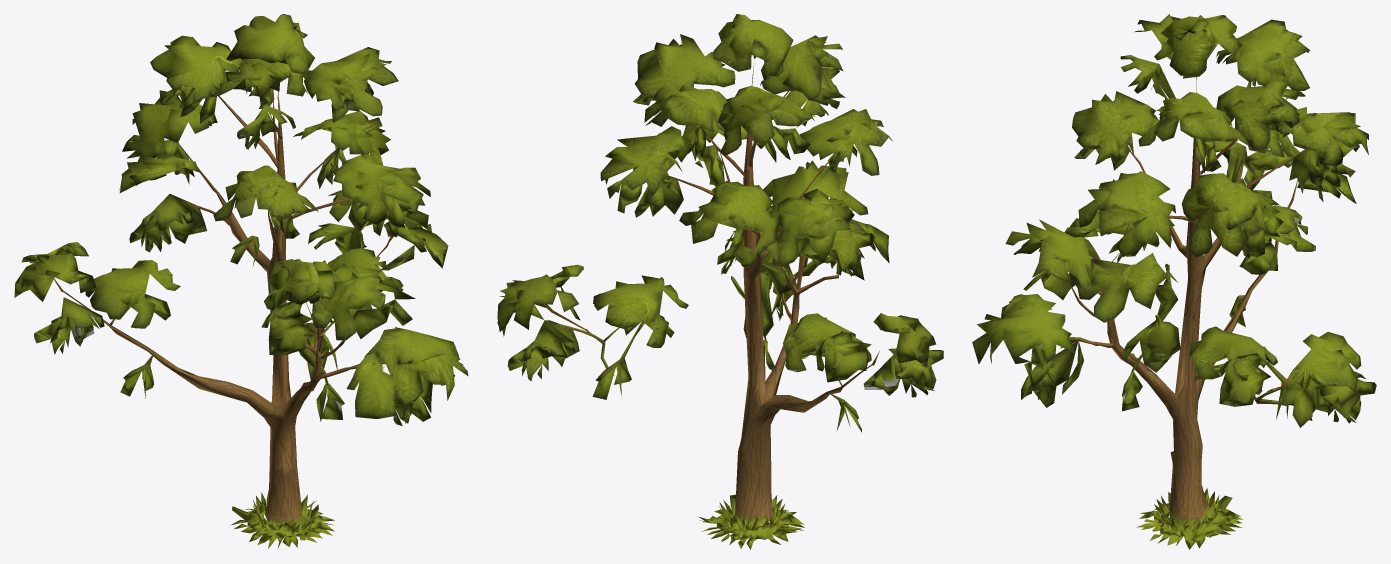
The model's file is tree_3d_model.fbx.
3 renders of one model, left to right at view 1: azimuth 30°, elevation 25°; view 2: azimuth 150°, elevation 25°; view 3: azimuth 270°, elevation 25°, orthographic.
Parts seen in each view (by area): view 1: tripo_node_63a4b642; view 2: tripo_node_63a4b642; view 3: tripo_node_63a4b642.
Boxes of the visible parts, <box> form: tripo_node_63a4b642: <box>14,14,468,548</box>; tripo_node_63a4b642: <box>497,14,943,549</box>; tripo_node_63a4b642: <box>972,14,1376,549</box>.
Bounding box in the file's own units: 0.8574 × 0.998 × 0.7129.
